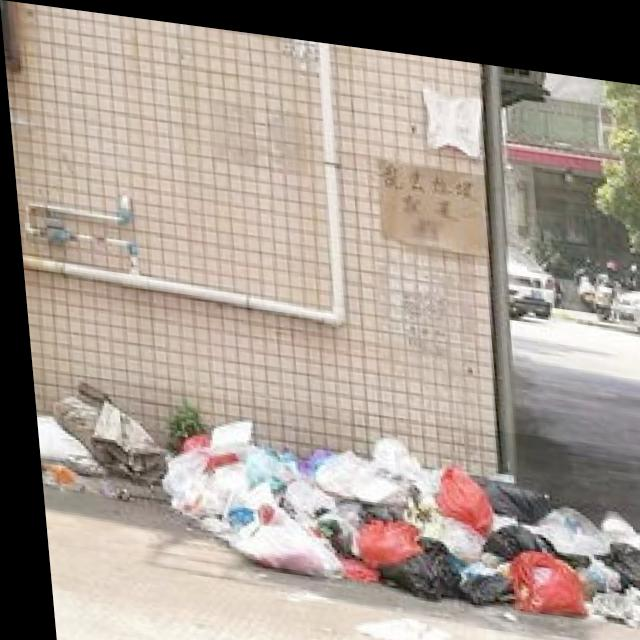garbage: (26, 370, 640, 612)
